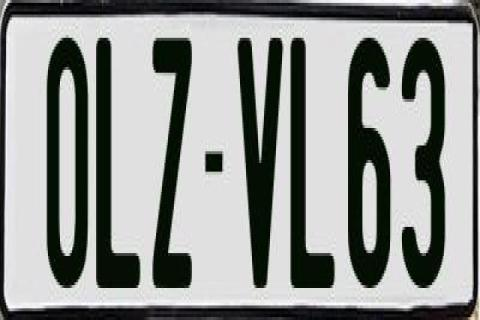0: (348, 32, 398, 285), (400, 29, 448, 291), (44, 38, 86, 297)
L: (96, 35, 146, 291), (289, 35, 336, 291)
V: (234, 32, 286, 296)
Z: (152, 35, 194, 303)
